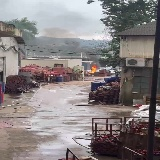fire: (89, 65, 96, 73)
